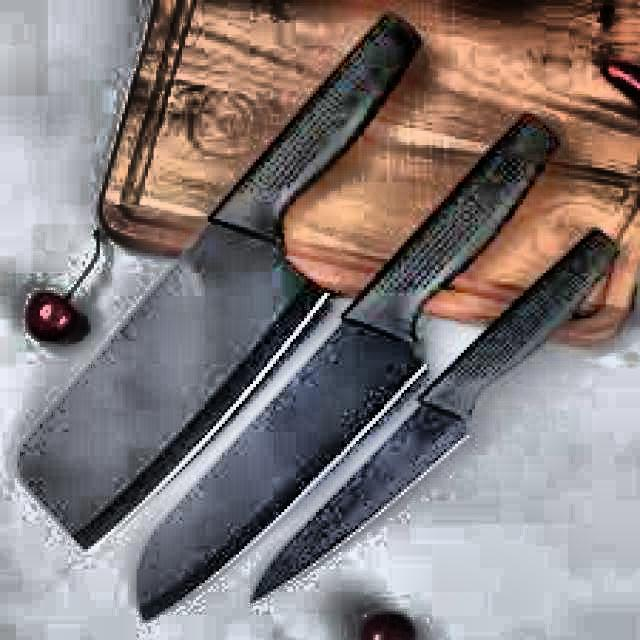knife: (13, 4, 426, 550), (133, 112, 562, 622), (243, 225, 624, 609)
